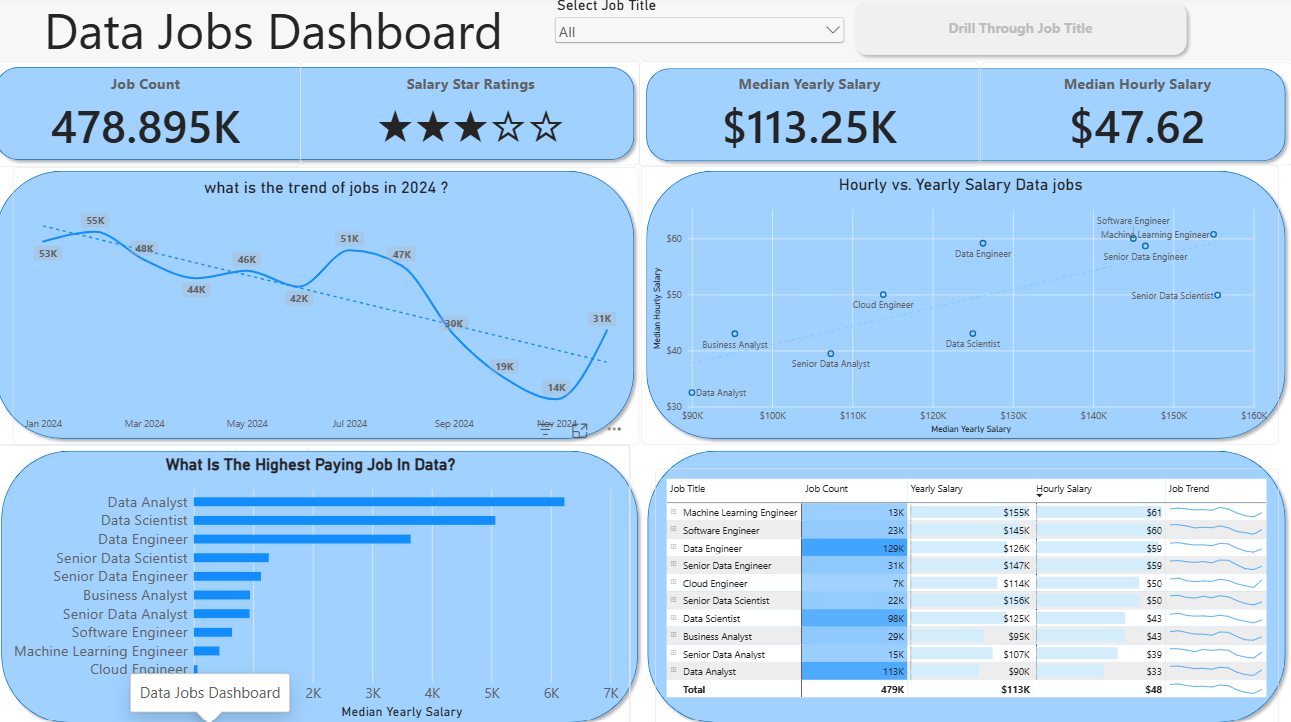

Layout of this report page (visuals, bound fields, positions):
{"tool":"powerbi","page":{"name":"Data Jobs Dashboard","canvas":[1920,1080],"ordinal":0},"visuals":[{"type":"group","id":"g1","title":"Background","box":[0,95.7,1917.8,984.7],"z":0},{"type":"shape","box":[0,95.7,958.9,154.6],"z":0,"group":"g1"},{"type":"textbox","box":[9.2,0,819,95.7],"z":1000},{"type":"shape","box":[958.9,97.5,958.9,154.6],"z":1000,"group":"g1"},{"type":"slicer","fields":{"Values":["job_postings_flat.job_title_short"]},"box":[828.2,0,436.2,95.7],"z":2000},{"type":"shape","box":[0,248.5,958.9,412.3],"z":2000,"group":"g1"},{"type":"cardVisual","fields":{"Data":["Median(job_postings_flat.salary_year_avg)"]},"box":[957.9,96,500.9,156.5],"z":3000},{"type":"shape","box":[958.9,248.5,958.9,412.3],"z":3000,"group":"g1"},{"type":"cardVisual","fields":{"Data":["Median(job_postings_flat.salary_hour_avg)"]},"box":[1458.8,98.1,461.2,152.3],"z":4000},{"type":"shape","box":[9.2,660.7,955.2,419.6],"z":4000,"group":"g1"},{"type":"cardVisual","fields":{"Data":["job_postings_flat.Salary Star Ratings"]},"box":[458.3,95.7,500.6,154.6],"z":5000},{"type":"shape","box":[960.7,660.7,957.1,419.6],"z":5000,"group":"g1"},{"type":"cardVisual","fields":{"Data":["CountNonNull(job_postings_flat.job_title_short)"]},"box":[0,96,459.1,156.5],"z":6000},{"type":"lineChart","title":"what is the trend of jobs in 2024 ? ","fields":{"Category":["job_postings_flat.job_posted_date.Variation.Date Hierarchy.Year","job_postings_flat.job_posted_date.Variation.Date Hierarchy.Quarter","job_postings_flat.job_posted_date.Variation.Date Hierarchy.Month","job_postings_flat.job_posted_date.Variation.Date Hierarchy.Day"],"Y":["CountNonNull(job_postings_flat.job_title_short)"]},"box":[35,252.1,922.1,408.6],"z":7000},{"type":"barChart","title":"What Is The Highest Paying Job In Data?","fields":{"Category":["job_postings_flat.job_title_short"],"Y":["CountNonNull(job_postings_flat.salary_year_avg)"]},"box":[1.8,660.7,942.3,419.6],"z":8000},{"type":"scatterChart","title":"Hourly vs. Yearly Salary Data jobs","fields":{"Series":["job_postings_flat.job_title_short"],"X":["Median(job_postings_flat.salary_year_avg)"],"Y":["Median(job_postings_flat.salary_hour_avg)"]},"box":[960.7,248.5,938.7,412.3],"z":9000},{"type":"pivotTable","fields":{"Rows":["job_postings_flat.job_title_short","job_postings_flat.job_posted_date.Variation.Date Hierarchy.Quarter"],"Values":["CountNonNull(job_postings_flat.job_title_short)","Median(job_postings_flat.salary_year_avg)","Median(job_postings_flat.salary_hour_avg)","SparklineData(CountNonNull(job_postings_flat.job_title_short)_[job_postings_flat.job_posted_date.Variation.Date Hierarch"]},"box":[981,695.7,918.4,384.7],"z":10000},{"type":"actionButton","box":[1264.4,0,508,95.7],"z":10001}]}

Visuals, with their boxes in screenshot pixels (x1, y1, x2, y2), scaled from the page's 1920x1080 canvas onto the 1291x722 screenshot:
"Background" group: (0, 64, 1290, 721)
shape: (0, 64, 645, 167)
textbox: (6, 0, 557, 64)
shape: (645, 65, 1290, 169)
slicer - job_postings_flat.job_title_short: (557, 0, 850, 64)
shape: (0, 166, 645, 442)
cardVisual - Median(job_postings_flat.salary_year_avg): (644, 64, 981, 169)
shape: (645, 166, 1290, 442)
cardVisual - Median(job_postings_flat.salary_hour_avg): (981, 66, 1290, 167)
shape: (6, 442, 648, 721)
cardVisual - job_postings_flat.Salary Star Ratings: (308, 64, 645, 167)
shape: (646, 442, 1290, 721)
cardVisual - CountNonNull(job_postings_flat.job_title_short): (0, 64, 309, 169)
"what is the trend of jobs in 2024 ? " lineChart: (24, 169, 644, 442)
"What Is The Highest Paying Job In Data?" barChart: (1, 442, 635, 721)
"Hourly vs. Yearly Salary Data jobs" scatterChart: (646, 166, 1277, 442)
pivotTable - job_postings_flat.job_title_short x job_postings_flat.job_posted_date.Variation.Date Hierarchy.Quarter: (660, 465, 1277, 721)
actionButton: (850, 0, 1192, 64)
